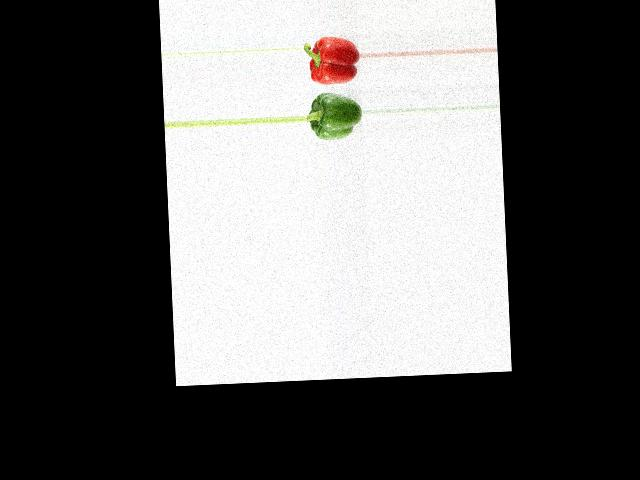bell_pepper: (306, 89, 361, 142)
